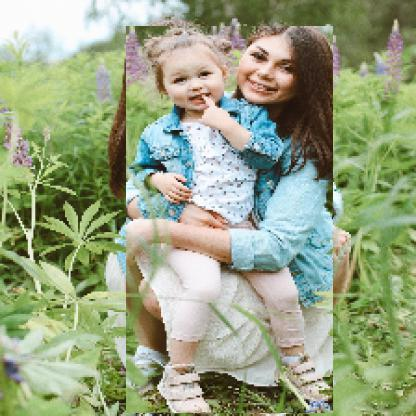child: (128, 27, 336, 415)
